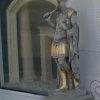Statue: (39, 5, 87, 82)
